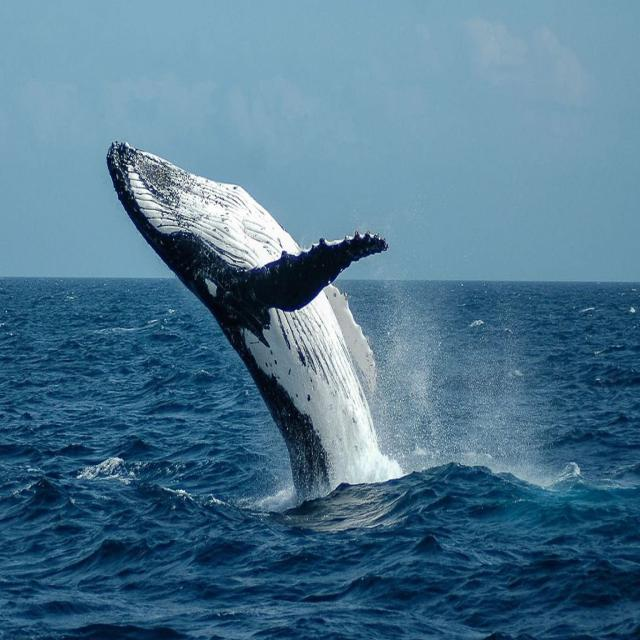whale: (106, 142, 387, 496)
